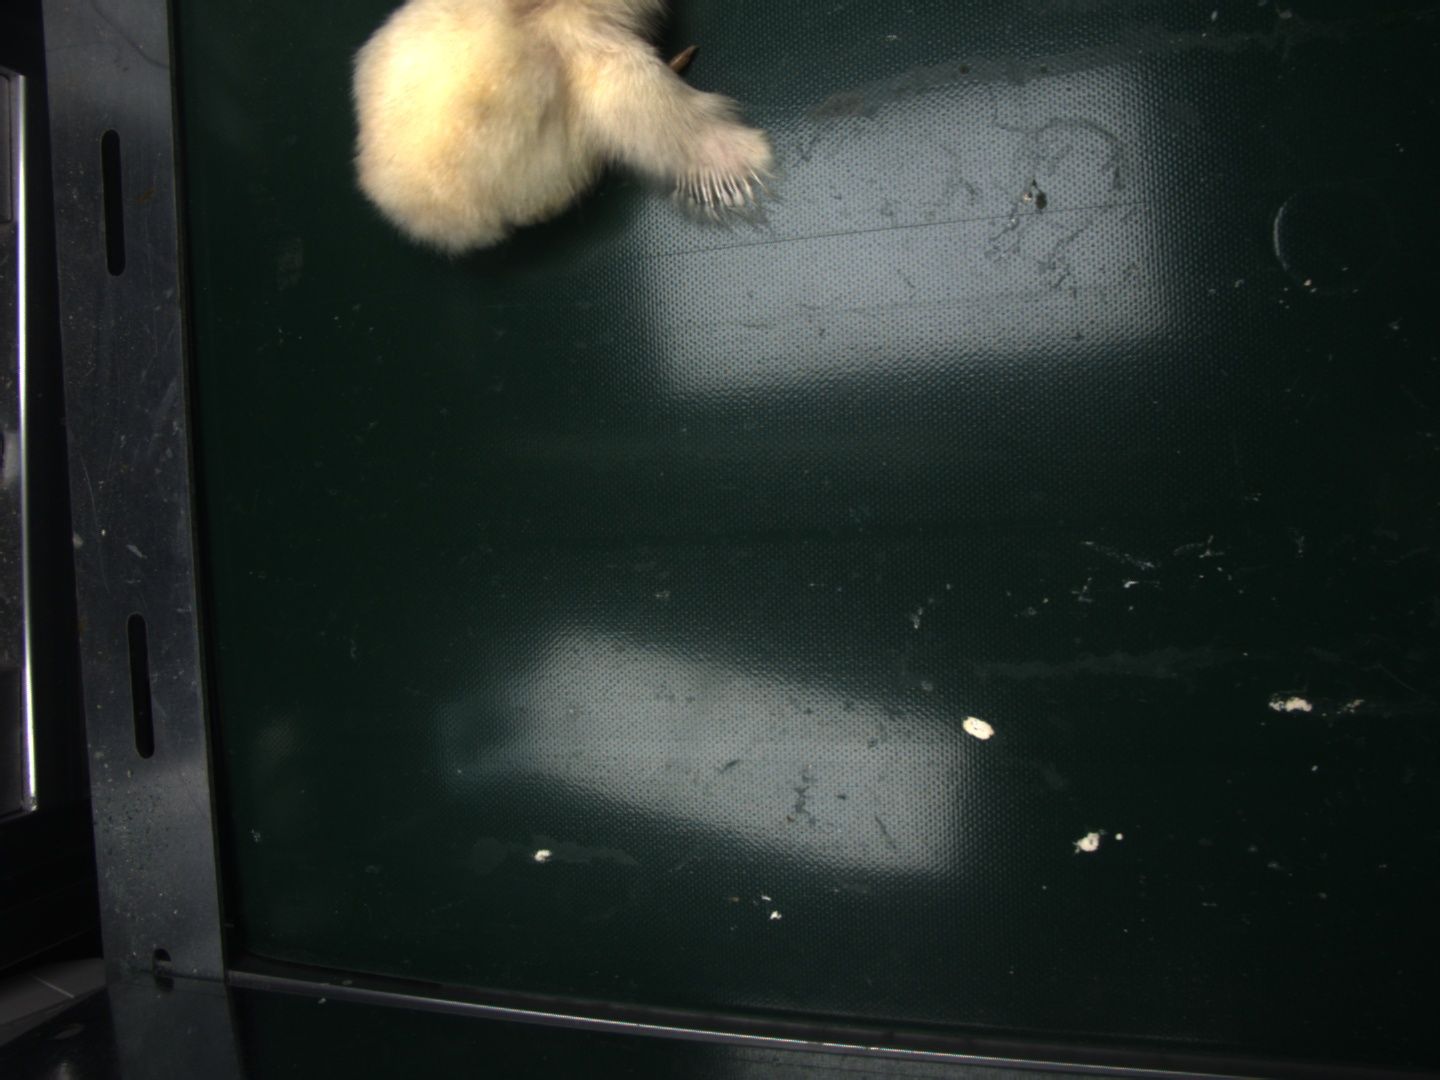male: (674, 161, 774, 211)
